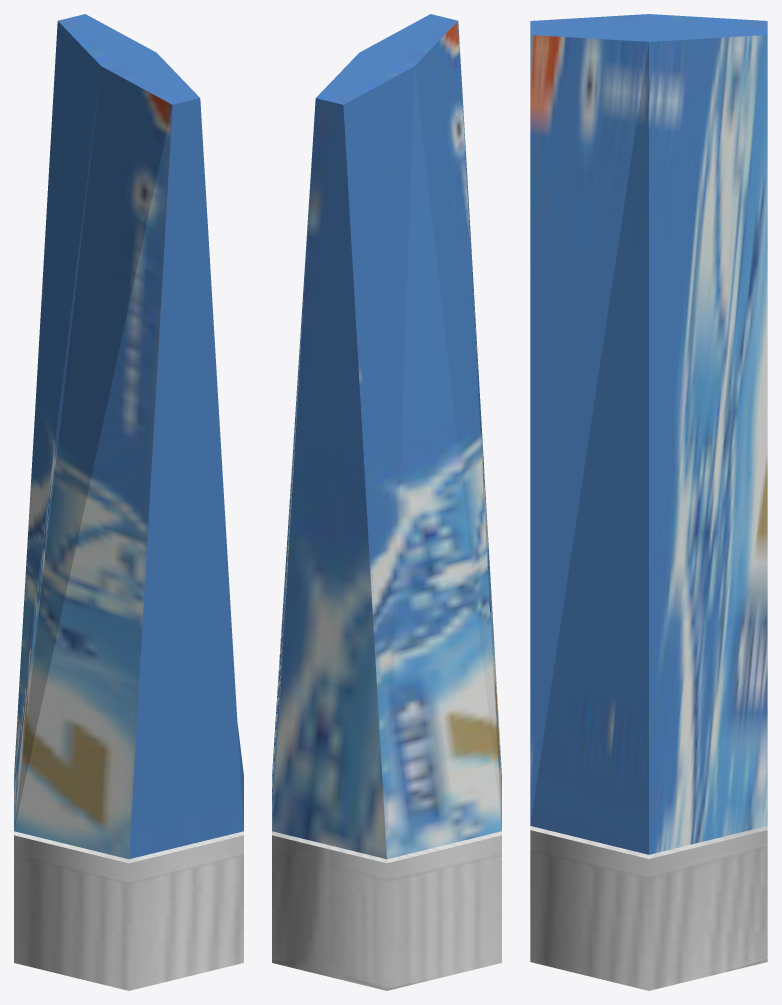
Rendered from toothpaste1.FBX.
The picture shows the model from 3 angles, left to right: view 1: azimuth 30°, elevation 25°; view 2: azimuth 150°, elevation 25°; view 3: azimuth 270°, elevation 25°; orthographic projection. The views are drawn at different scales.
Parts seen in each view (by area): view 1: Object001, Cylinder001; view 2: Object001, Cylinder001; view 3: Object001, Cylinder001.
Boxes of the visible parts, x1,y1,x2,y2 form: Object001: (14, 14, 243, 859); Cylinder001: (14, 831, 243, 990); Object001: (272, 14, 501, 859); Cylinder001: (272, 831, 501, 990); Object001: (530, 14, 767, 854); Cylinder001: (530, 826, 767, 990).
Bounding box in the file's own units: 57.42 × 209 × 49.73.
4 materials, 4 textured.
